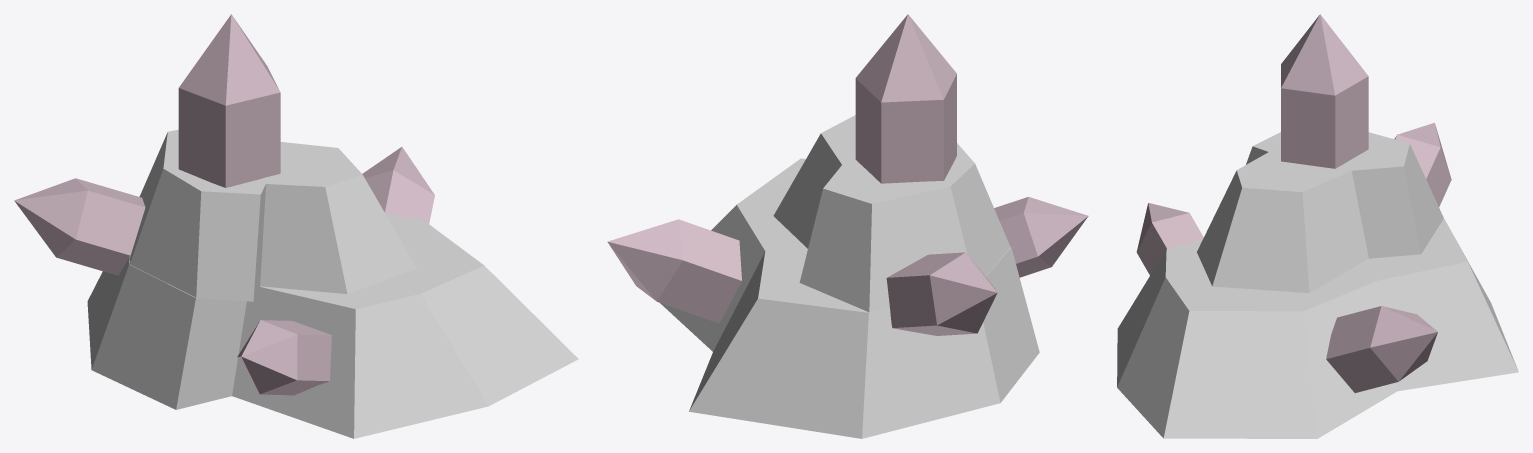
The model's file is Cuarzo_Tipo1.fbx.
The picture shows the model from 3 angles, left to right: view 1: azimuth 30°, elevation 25°; view 2: azimuth 150°, elevation 25°; view 3: azimuth 270°, elevation 25°; orthographic projection. The views are drawn at different scales.
Parts seen in each view (by area): view 1: base.007, cuarzo, cuarzo.003, cuarzo.002, cuarzo.001; view 2: base.007, cuarzo, cuarzo.001, cuarzo.003, cuarzo.002; view 3: base.007, cuarzo, cuarzo.001, cuarzo.002, cuarzo.003.
Boxes of the visible parts, x1,y1,x2,y2 form: base.007: [87, 129, 578, 438]; cuarzo: [178, 14, 280, 187]; cuarzo.003: [14, 178, 145, 275]; cuarzo.002: [237, 320, 331, 395]; cuarzo.001: [362, 147, 434, 223]; base.007: [660, 115, 1039, 438]; cuarzo: [855, 14, 956, 183]; cuarzo.001: [607, 219, 741, 323]; cuarzo.003: [886, 252, 997, 335]; cuarzo.002: [994, 196, 1088, 277]; base.007: [1117, 132, 1518, 438]; cuarzo: [1281, 14, 1368, 168]; cuarzo.001: [1326, 306, 1437, 392]; cuarzo.002: [1136, 203, 1203, 275]; cuarzo.003: [1394, 122, 1451, 206].
Bounding box in the file's own units: 146 × 116 × 136.
